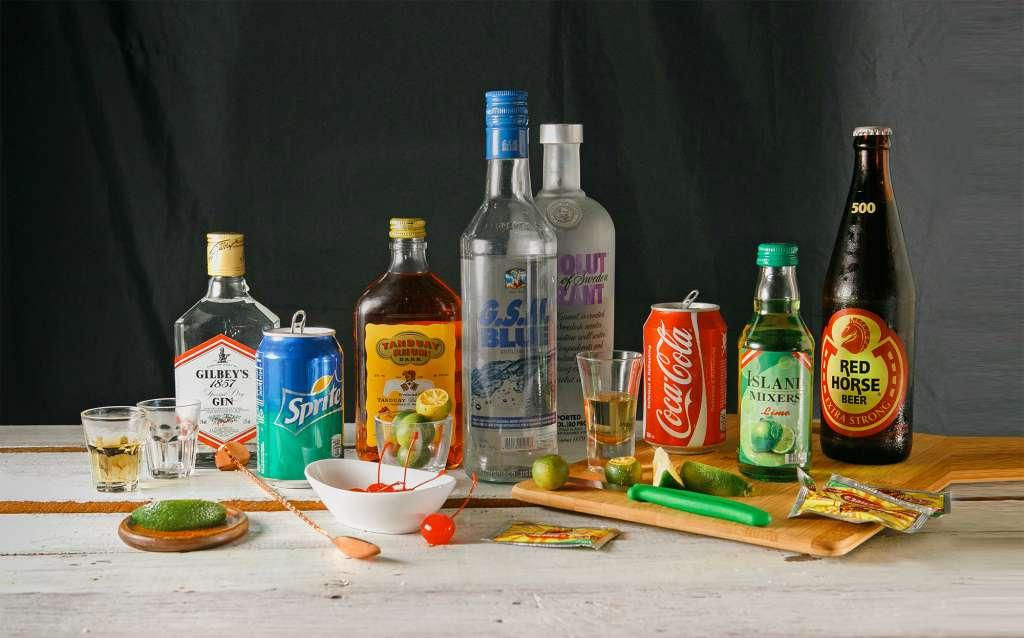can: (255, 310, 343, 488), (643, 291, 727, 454)
